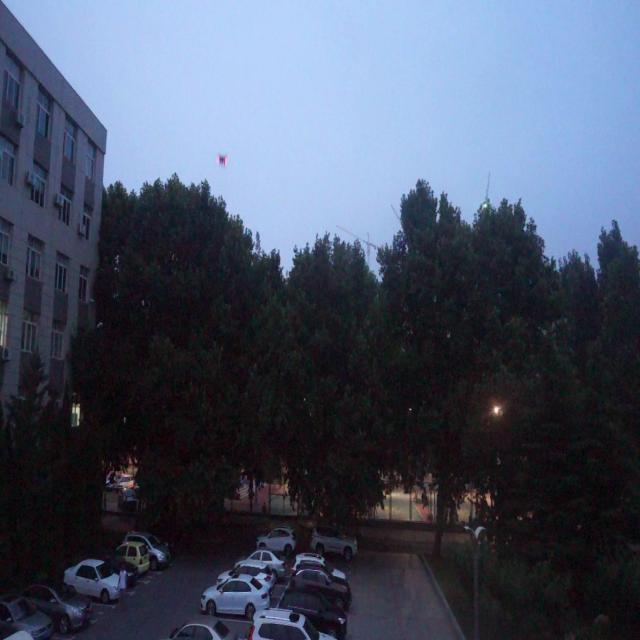drone: (214, 148, 229, 172)
